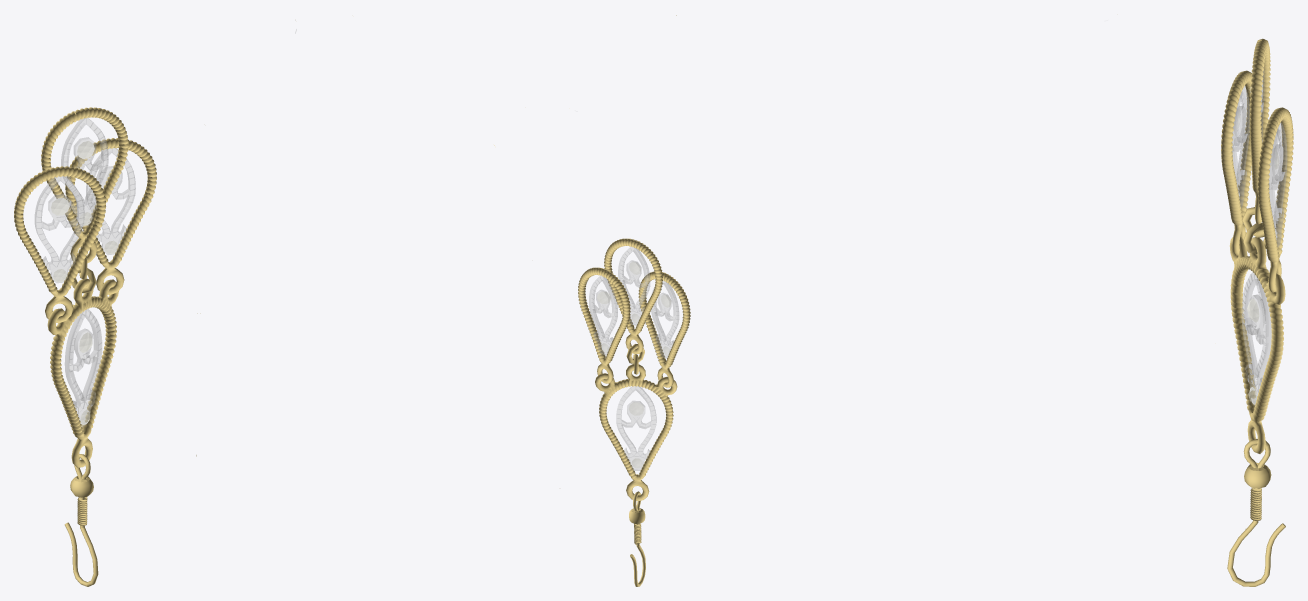
Rendered from Aretes1.glb.
3 renders of one model, left to right at view 1: azimuth 30°, elevation 25°; view 2: azimuth 150°, elevation 25°; view 3: azimuth 270°, elevation 25°, orthographic. The views are drawn at different scales.
Parts seen in each view (by area): view 1: 11763_earings_v1_L1.2811; view 2: 11763_earings_v1_L1.2811; view 3: 11763_earings_v1_L1.2811.
Part boxes in pixels (left/top/right/bottom): 11763_earings_v1_L1.2811: left=14, top=107, right=200, bottom=586; 11763_earings_v1_L1.2811: left=578, top=238, right=690, bottom=586; 11763_earings_v1_L1.2811: left=1221, top=38, right=1293, bottom=586.
Bounding box in the file's own units: 4.76 × 9.19 × 7.26.
